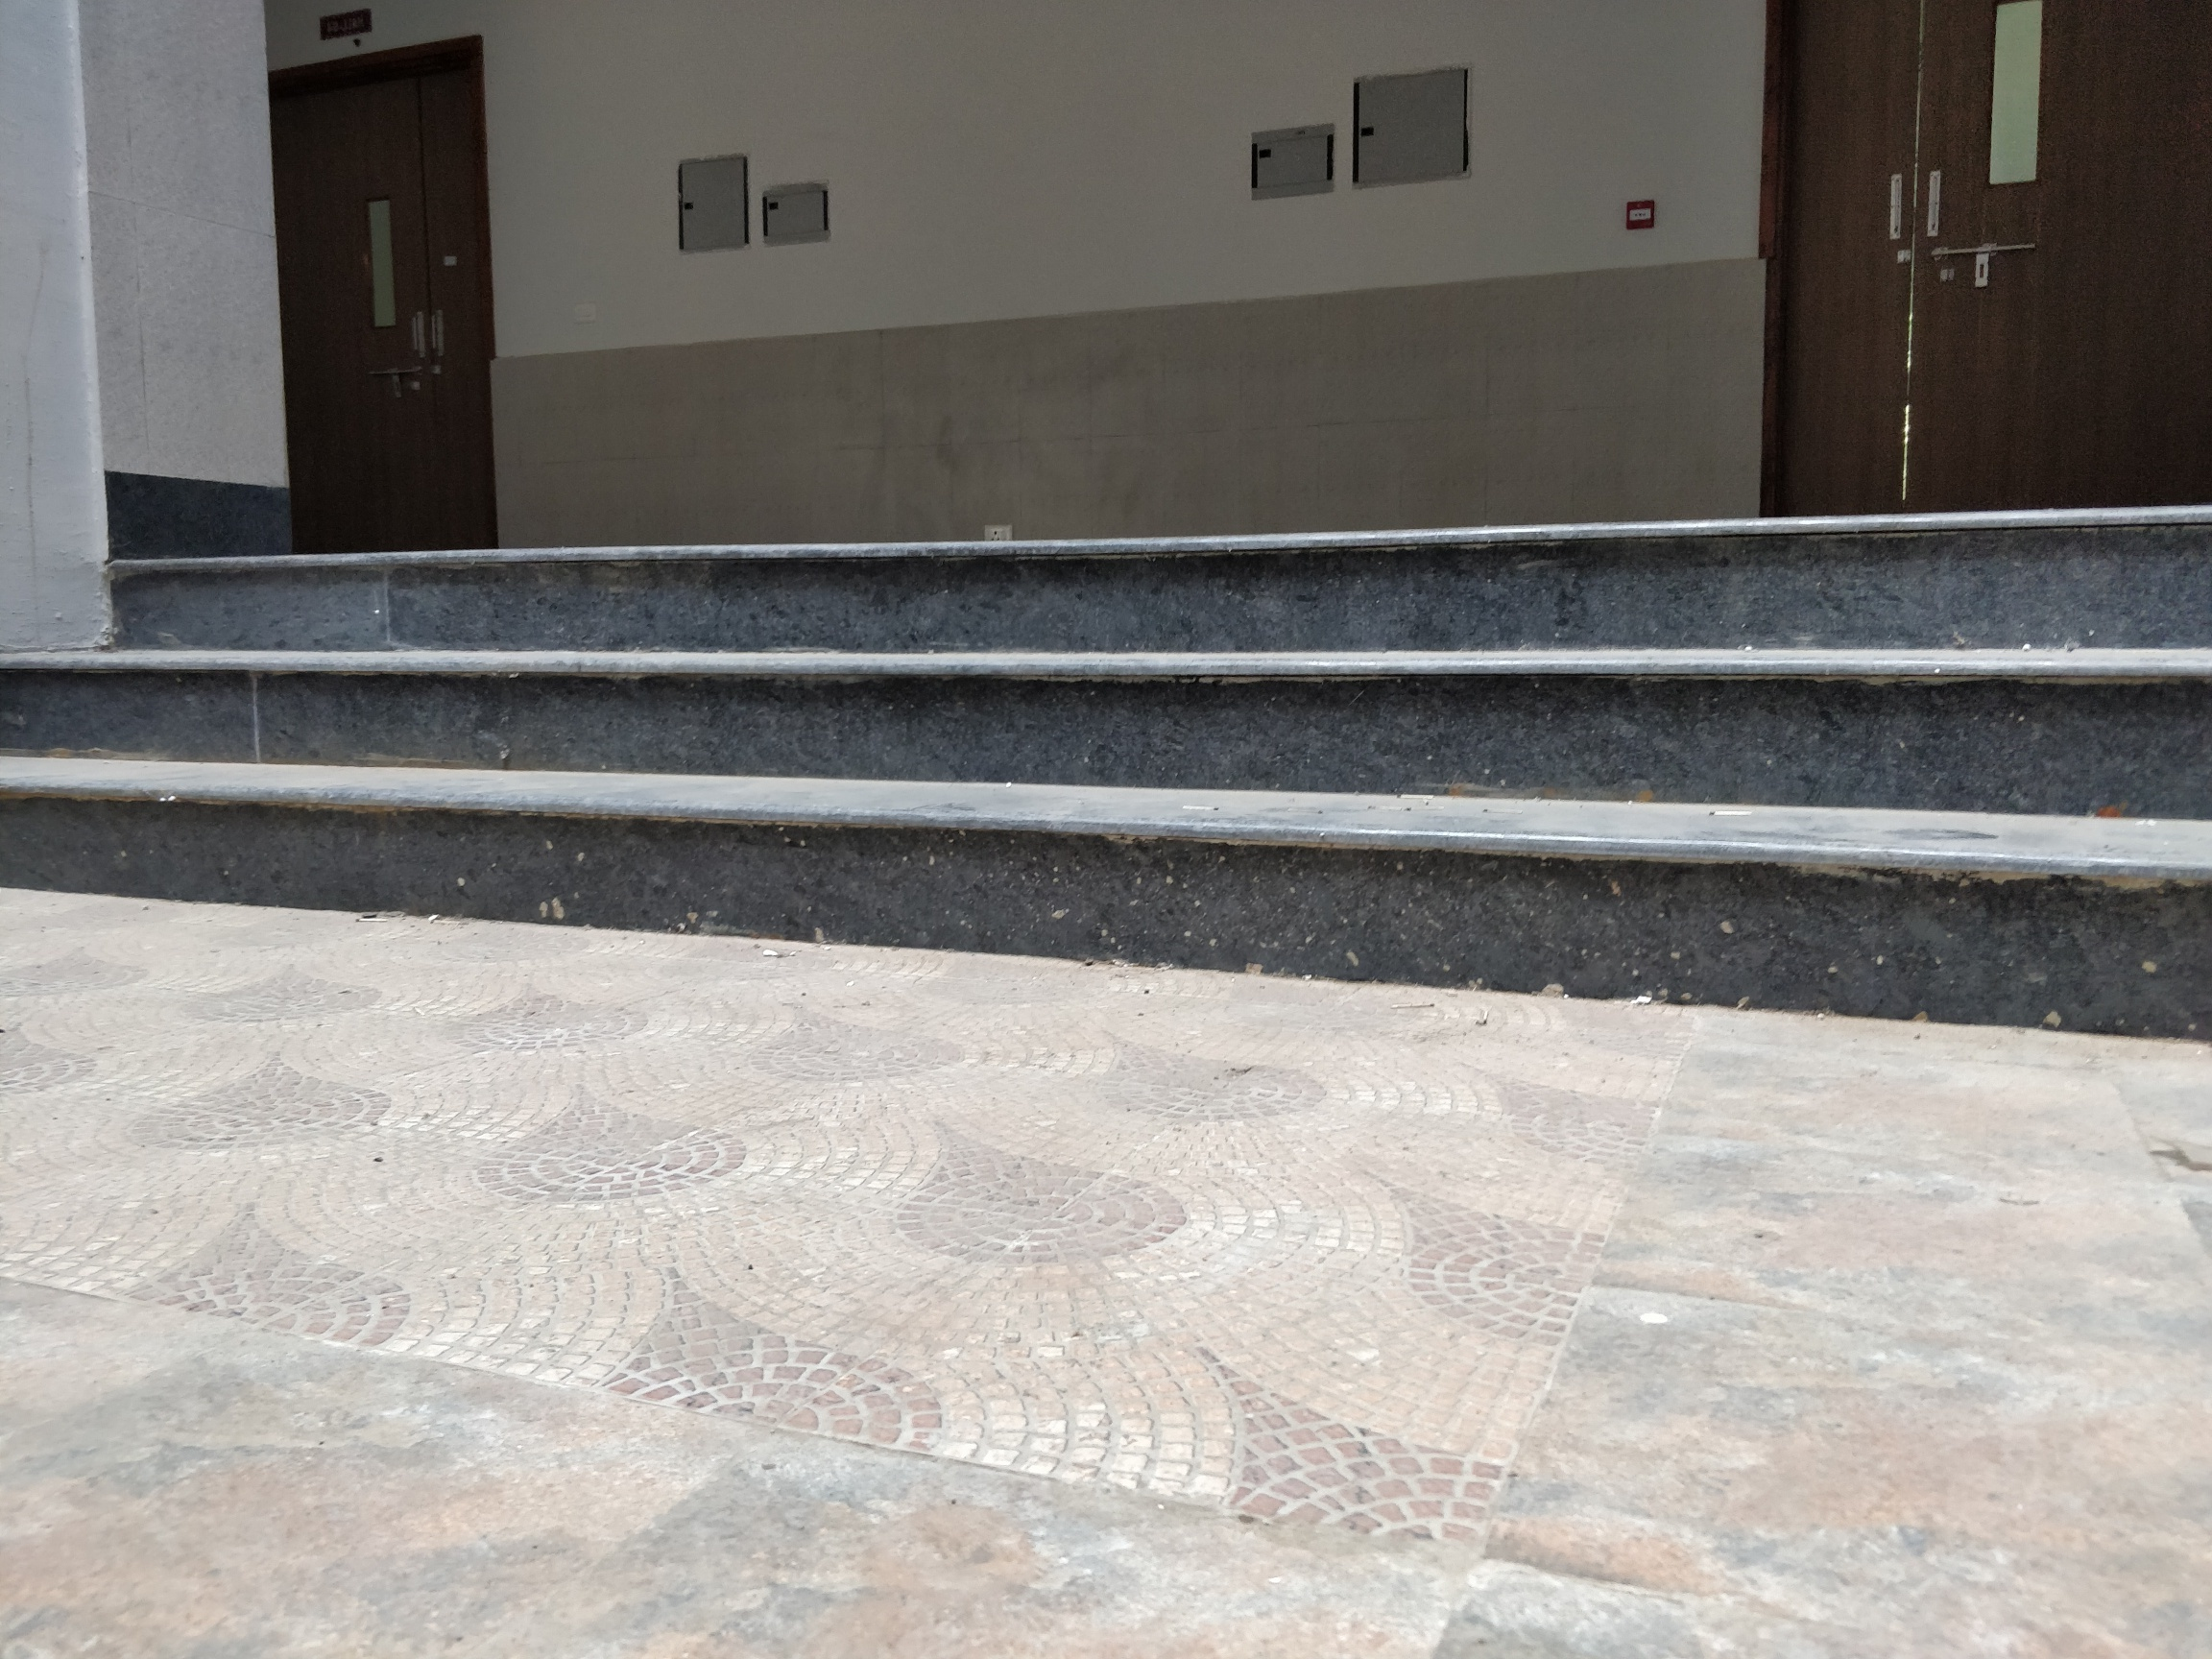stairs_up: (125, 512, 2196, 929)
